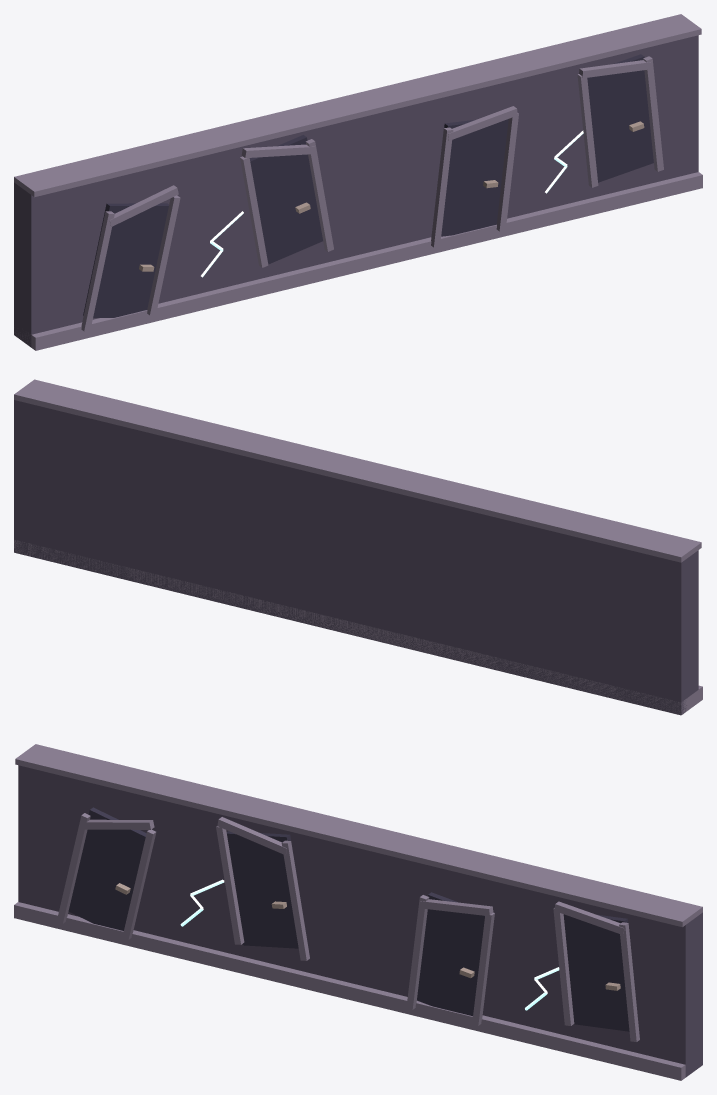
File: IR_WallA.glb
3 views of the same model, one above another, from view 1: azimuth 30°, elevation 25°; view 2: azimuth 150°, elevation 25°; view 3: azimuth 330°, elevation 25° (orthographic).
Visible parts, largest first — view 1: IR_WallA; view 2: IR_WallA; view 3: IR_WallA.
Boxes of the visible parts, box(x1,y1,x2,y2) form: IR_WallA: box(14, 14, 702, 350); IR_WallA: box(14, 379, 702, 715); IR_WallA: box(14, 744, 702, 1080).
Bounding box in the file's own units: 64 × 14.5 × 4.12.
2 materials, 2 textured.
